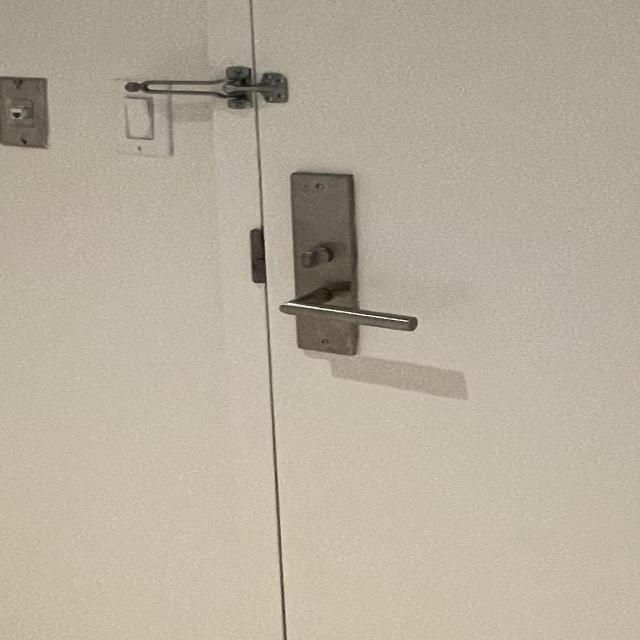door_handle: (247, 275, 430, 345)
